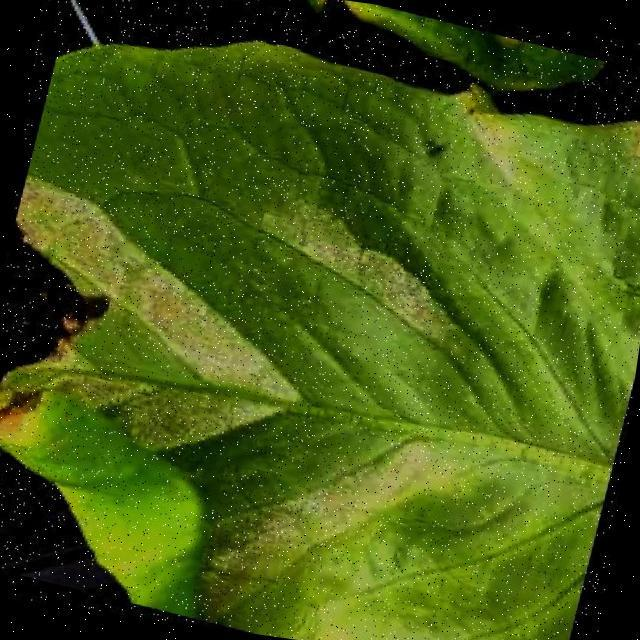Powdery_Mildew: (74, 152, 489, 545)
